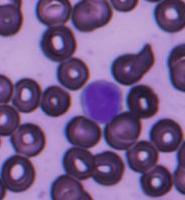L: (80, 78, 122, 124)
